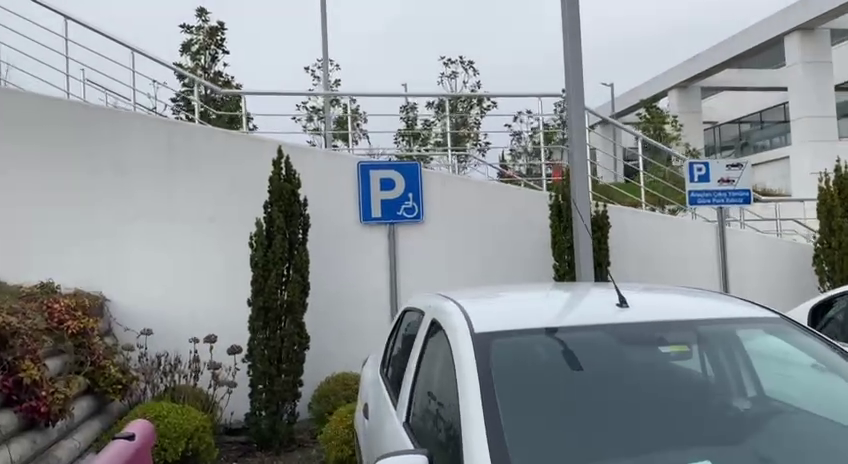parking: (356, 159, 424, 225), (686, 161, 713, 186)
